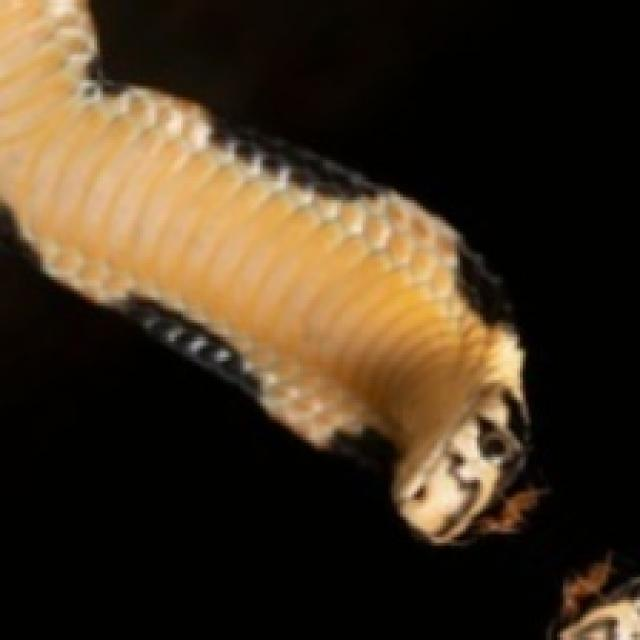king cobra: (0, 0, 634, 637), (0, 0, 537, 540)
